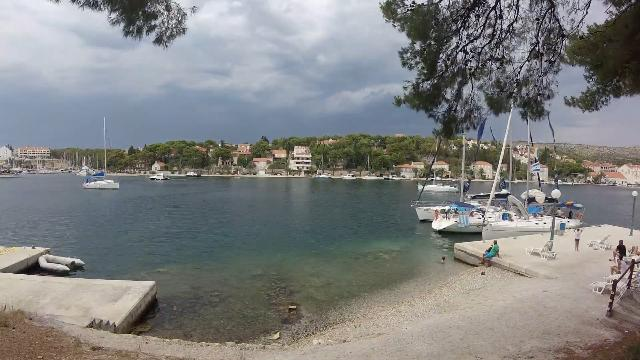Freighter: (1, 162, 30, 180)
Sailboat: (79, 172, 127, 192), (416, 178, 464, 196)
speedboat: (145, 170, 173, 184), (183, 166, 203, 180)
